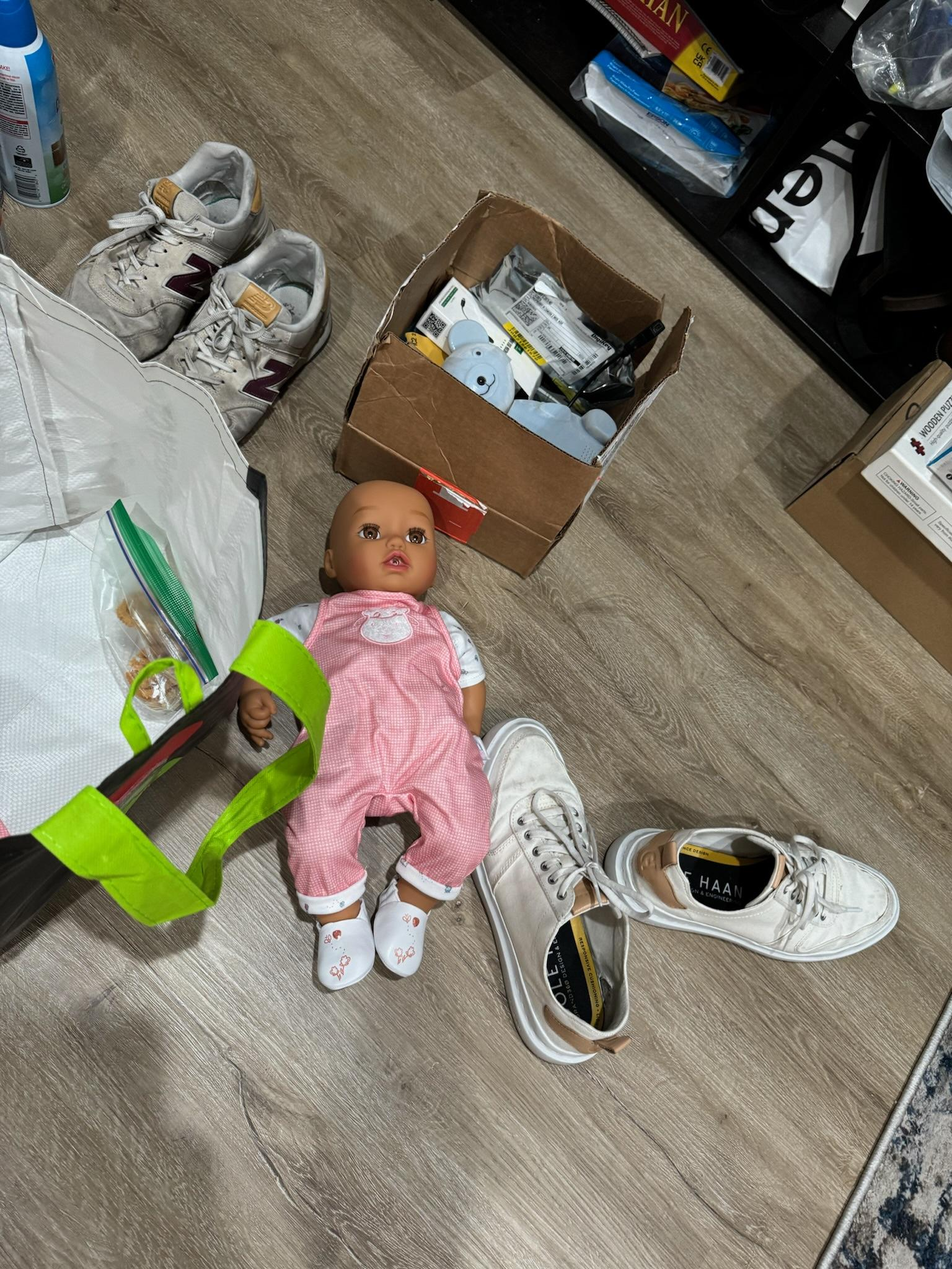baby: (240, 469, 510, 993)
